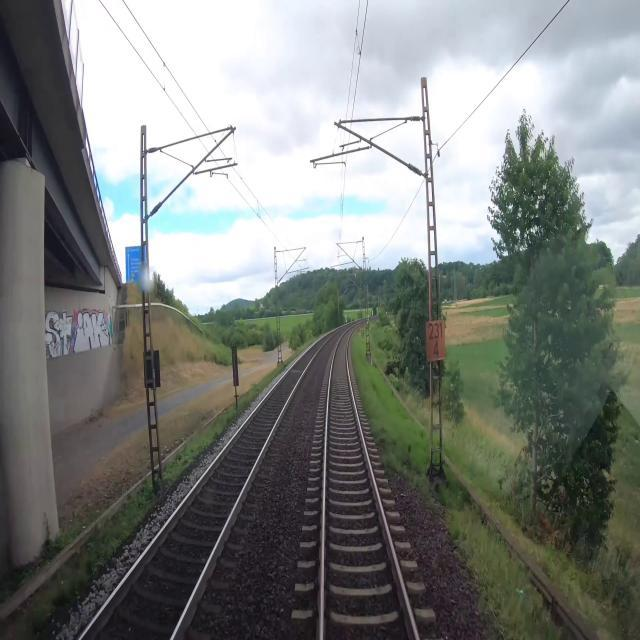Plant: (351, 328, 441, 514)
